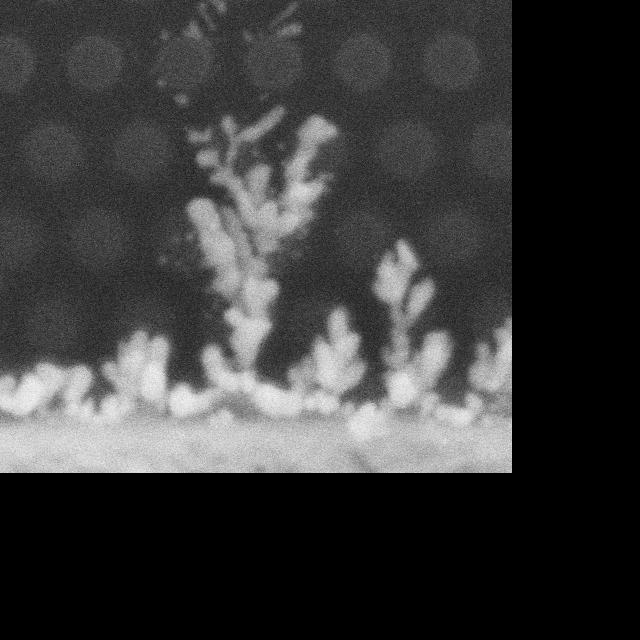Dendrite: (166, 108, 365, 416), (347, 241, 452, 443), (439, 317, 511, 424), (100, 329, 170, 420), (0, 362, 96, 419)
